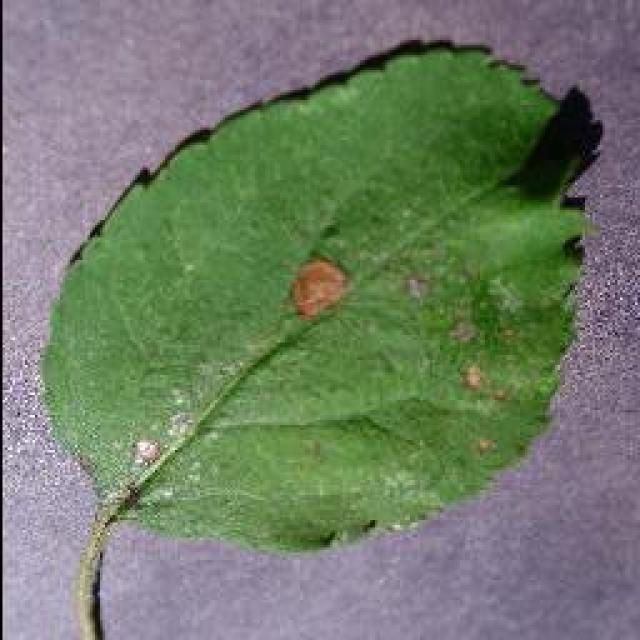black_rot: (282, 250, 352, 333), (388, 270, 432, 305), (445, 313, 478, 348)
